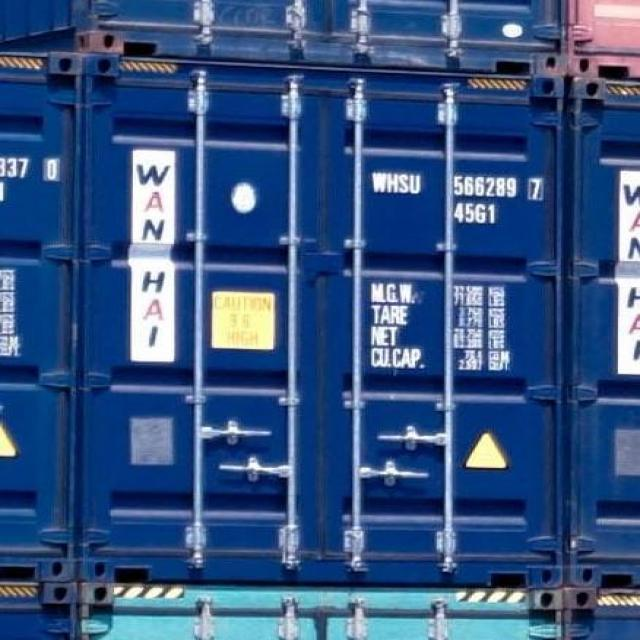ISO: (454, 202, 499, 224)
container_number: (376, 175, 547, 200), (1, 157, 61, 180)
